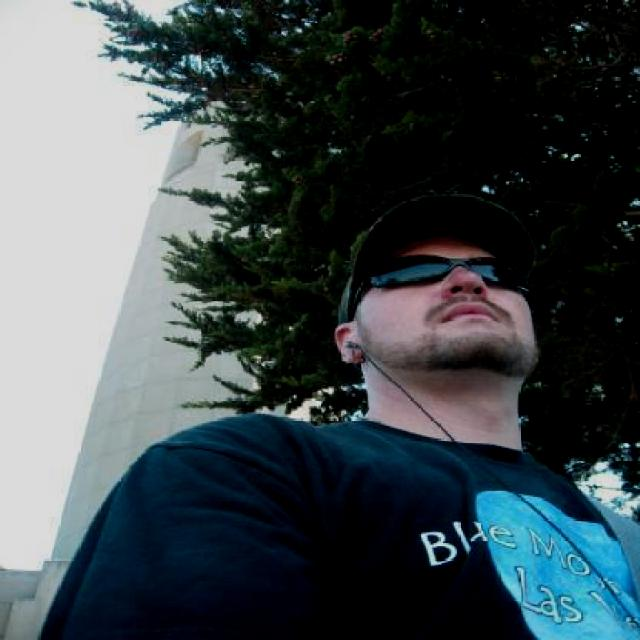face_nomask: (370, 255, 528, 338)
glasses: (354, 253, 543, 305)
head_nohelmet: (343, 196, 534, 267)
person: (61, 218, 640, 639)
